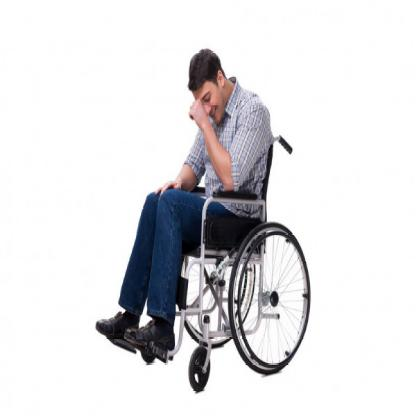wheelchair: (94, 48, 311, 398)
